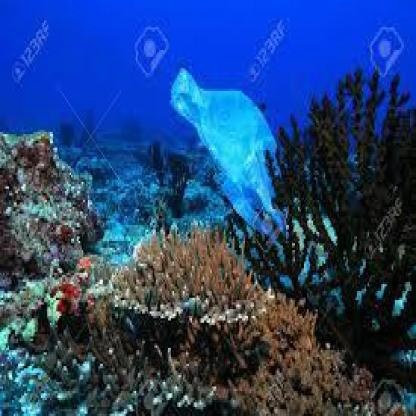pbag: (168, 66, 287, 234)
